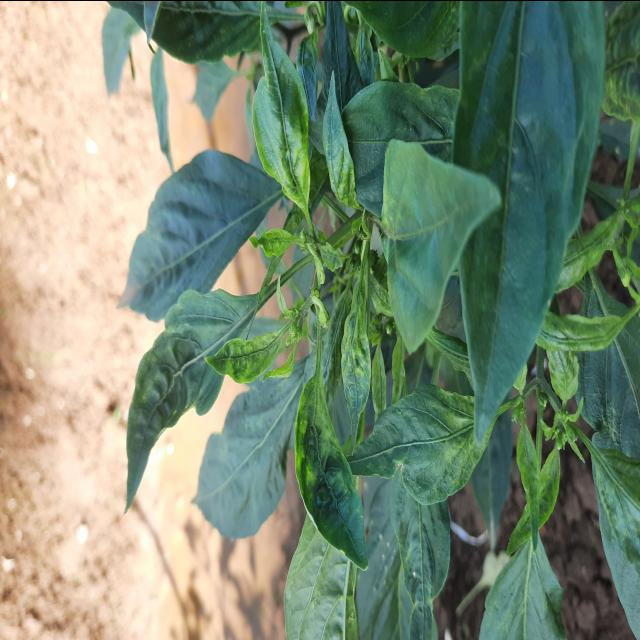thrips: (288, 333, 378, 589), (245, 25, 315, 222)
